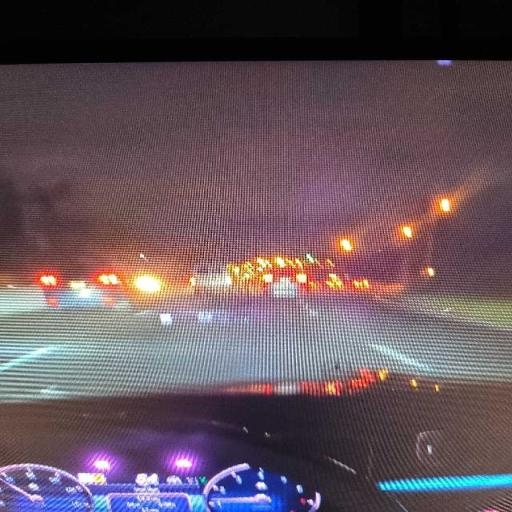car: (36, 269, 131, 308)
lane: (0, 301, 511, 400)
